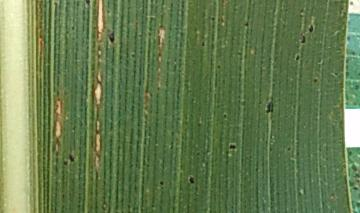tarspot: (66, 150, 77, 168), (264, 100, 276, 113), (305, 22, 317, 34), (226, 141, 239, 152), (106, 30, 116, 44), (187, 175, 197, 187), (293, 51, 302, 63), (156, 178, 166, 188), (299, 34, 308, 45), (83, 1, 94, 7)
